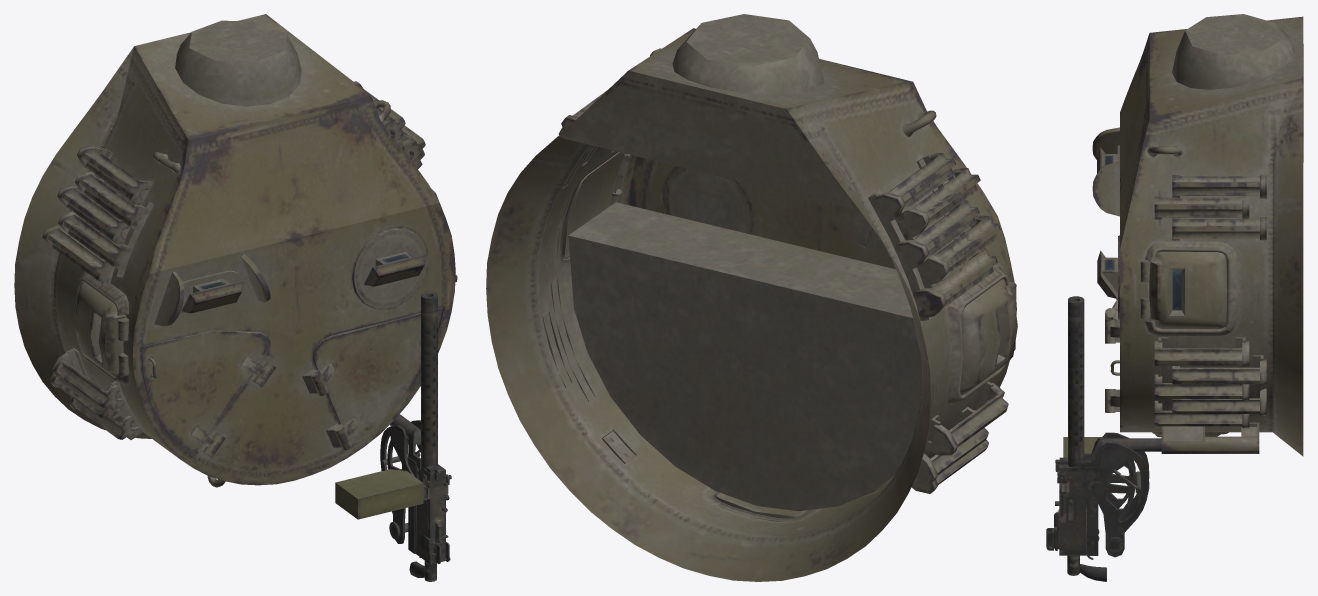
File: Turret_01.glb
3 renders of one model, left to right at view 1: azimuth 30°, elevation 25°; view 2: azimuth 150°, elevation 25°; view 3: azimuth 270°, elevation 25°, orthographic. The views are drawn at different scales.
Parts seen in each view (by area): view 1: set_0_group_0; view 2: set_0_group_0; view 3: set_0_group_0.
Part boxes in pixels (x1,y1,x2,y2): set_0_group_0: [14, 14, 457, 581]; set_0_group_0: [486, 14, 1017, 581]; set_0_group_0: [1046, 14, 1303, 581].
Bounding box in the file's own units: 1.38 × 1.83 × 0.8625.
Materials: 1 (1 with a texture image).
